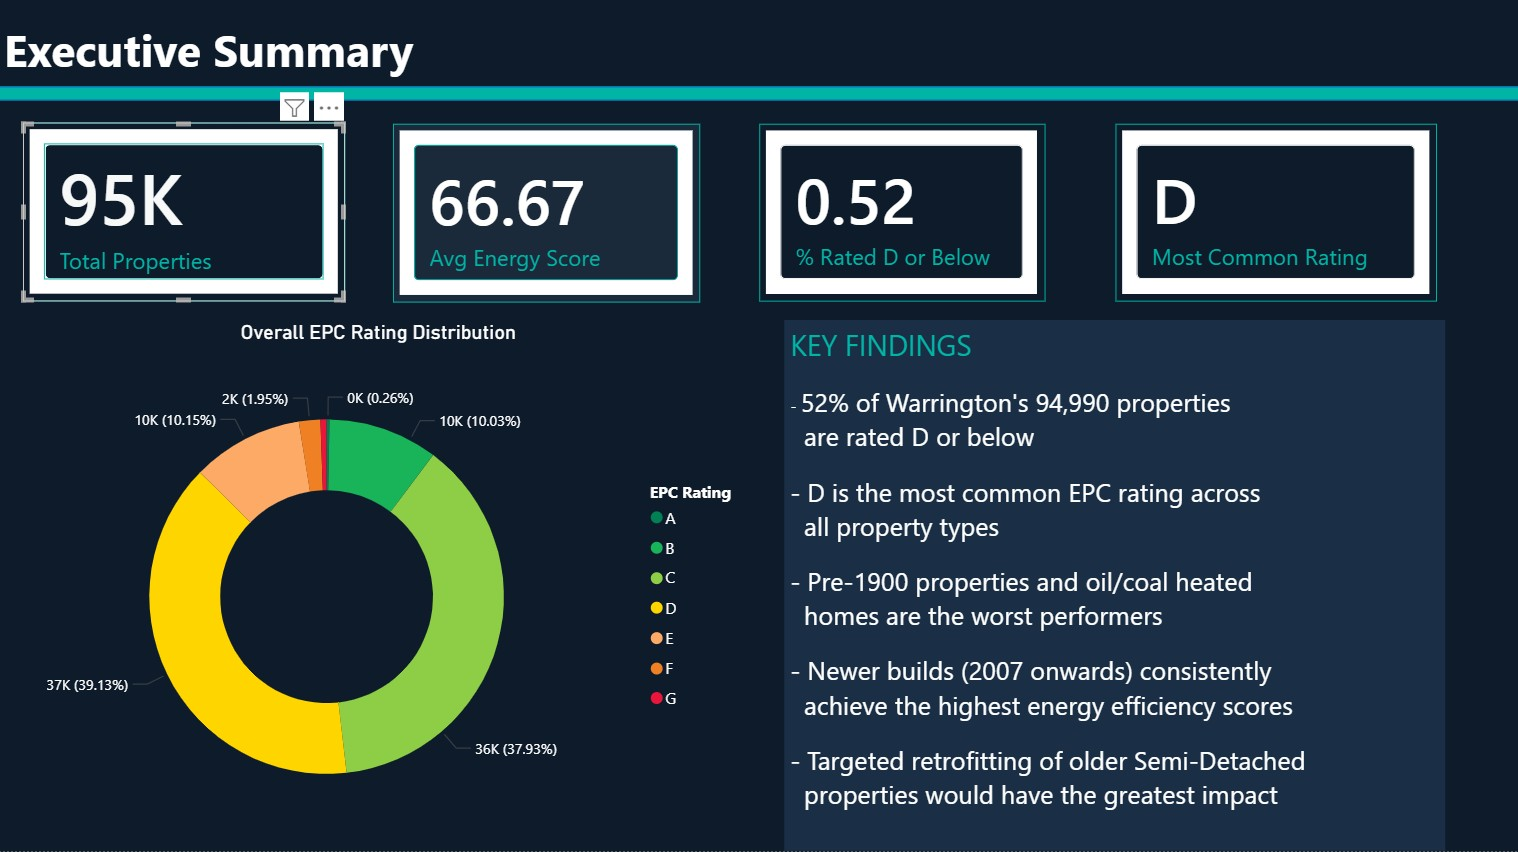

The dashboard page shown, as its layout file describes it:
{"tool":"powerbi","page":{"name":"Executive Summary","canvas":[1280,720],"ordinal":1},"visuals":[{"type":"textbox","box":[0,15.4,1180.7,68.4],"z":0},{"type":"shape","box":[0,77.2,1280,12.1],"z":1000},{"type":"cardVisual","fields":{"Data":["_Measures.Total Properties"]},"box":[21,107.2,271.3,150.4],"z":2000},{"type":"cardVisual","fields":{"Data":["_Measures.Avg Energy Score"]},"box":[332.6,108.2,258.3,150.1],"z":3000},{"type":"cardVisual","fields":{"Data":["_Measures.% Rated D or Below"]},"box":[640.1,108.3,241,149.7],"z":4000},{"type":"cardVisual","fields":{"Data":["_Measures.Most Common Rating"]},"box":[939.5,108.3,270.2,149.7],"z":5000},{"type":"donutChart","title":"Overall EPC Rating Distribution","fields":{"Category":["Dim_EnergyRating.CURRENT_ENERGY_RATING"],"Y":["_Measures.Total Properties"]},"box":[0,273.8,640.1,446.6],"z":6000},{"type":"textbox","box":[660.8,273.8,556.2,446.6],"z":7000}]}

Visuals, with their boxes in screenshot pixels (x1, y1, x2, y2), scaled from the page's 1280x720 canvas onto the 1518x852 screenshot:
textbox: BBox(0, 18, 1400, 99)
shape: BBox(0, 91, 1517, 106)
cardVisual - _Measures.Total Properties: BBox(25, 127, 347, 305)
cardVisual - _Measures.Avg Energy Score: BBox(394, 128, 701, 306)
cardVisual - _Measures.% Rated D or Below: BBox(759, 128, 1045, 305)
cardVisual - _Measures.Most Common Rating: BBox(1114, 128, 1435, 305)
"Overall EPC Rating Distribution" donutChart: BBox(0, 324, 759, 851)
textbox: BBox(784, 324, 1443, 851)
